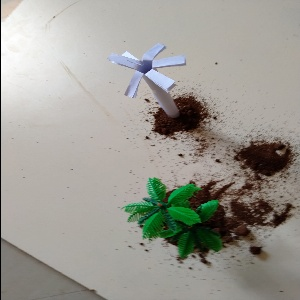plant: (126, 174, 215, 245)
weed: (106, 45, 189, 117)
